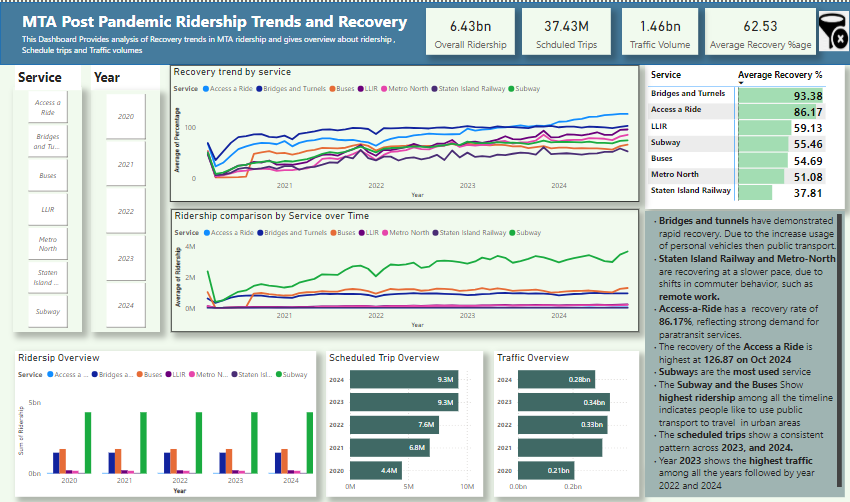

What the dashboard file says about the page in this screenshot:
{"tool":"powerbi","page":{"name":"Page 1","canvas":[1420,840],"ordinal":0},"visuals":[{"type":"slicer","fields":{"Values":["percentage.Date.Variation.Date Hierarchy.Year"]},"box":[1190,786.2,115,15],"z":0},{"type":"slicer","fields":{"Values":["MTA_Daily_Ridership.Date.Variation.Date Hierarchy.Year"]},"box":[1075,771.2,115,28.8],"z":1000},{"type":"shape","box":[0,0,1420,105],"z":2000},{"type":"pivotTable","fields":{"Values":["Avg(percentage.Value)"],"Rows":["percentage.Service"]},"box":[1075,105,333.3,240],"z":3000},{"type":"lineChart","title":"Ridership comparison by  Service over Time ","fields":{"Y":["Avg(Ridership.Ridership)"],"Series":["Ridership.Service"],"Category":["Ridership.Date.Variation.Date Hierarchy.Year","Ridership.Date.Variation.Date Hierarchy.Quarter","Ridership.Date.Variation.Date Hierarchy.Month"]},"box":[285,345,780,205],"z":4000},{"type":"slicer","fields":{"Values":["Ridership.Service"]},"box":[21.7,141.7,115,408.3],"z":5000},{"type":"lineChart","title":"Recovery trend by service","fields":{"Category":["percentage.Date.Variation.Date Hierarchy.Year","percentage.Date.Variation.Date Hierarchy.Quarter","percentage.Date.Variation.Date Hierarchy.Month"],"Y":["Avg(percentage.Percentage)"],"Series":["Ridership.Service"]},"box":[283.3,105,781.7,228.3],"z":6000},{"type":"textbox","box":[31.7,8.3,678.3,58.3],"z":7000},{"type":"barChart","title":"Scheduled Trip Overview","fields":{"Y":["Sum(MTA_Daily_Ridership.Access-A-Ride: Total Scheduled Trips)"],"Category":["MTA_Daily_Ridership.Date.Variation.Date Hierarchy.Year","MTA_Daily_Ridership.Date.Variation.Date Hierarchy.Quarter","MTA_Daily_Ridership.Date.Variation.Date Hierarchy.Month","MTA_Daily_Ridership.Date.Variation.Date Hierarchy.Day"]},"box":[543.3,581.7,261.7,243.3],"z":8000},{"type":"barChart","title":"Traffic Overview","fields":{"Y":["Sum(MTA_Daily_Ridership.Bridges and Tunnels: Total Traffic)"],"Category":["MTA_Daily_Ridership.Date.Variation.Date Hierarchy.Year","MTA_Daily_Ridership.Date.Variation.Date Hierarchy.Quarter","MTA_Daily_Ridership.Date.Variation.Date Hierarchy.Month","MTA_Daily_Ridership.Date.Variation.Date Hierarchy.Day"]},"box":[823.3,581.7,241.7,243.3],"z":9000},{"type":"lineClusteredColumnComboChart","title":"Ridersip  Overview","fields":{"Category":["percentage.Date.Variation.Date Hierarchy.Year"],"Series":["percentage.Service"],"Y":["Sum(Ridership.Ridership)"]},"box":[25,581.7,501.7,243.3],"z":10000},{"type":"card","fields":{"Values":["Avg(percentage.Percentage)"]},"box":[1175,10,185,78.3],"z":11000},{"type":"textbox","box":[1075,348.3,333.3,476.7],"z":12000},{"type":"image","box":[1360,10,60,76.7],"z":13000},{"type":"textbox","box":[25,105,110,41.7],"z":14000},{"type":"textbox","box":[151.7,105,115,41.7],"z":15000},{"type":"card","fields":{"Values":["MTA_Daily_Ridership.Overall Ridership"]},"box":[710,10,148.3,78.3],"z":16000},{"type":"card","fields":{"Values":["MTA_Daily_Ridership.Schduled Trips"]},"box":[870,10,148.3,78.3],"z":17000},{"type":"card","fields":{"Values":["MTA_Daily_Ridership.Traffic Volume"]},"box":[1036.7,10,126.7,78.3],"z":18000},{"type":"textbox","box":[32.2,48.9,643.3,47.8],"z":19000},{"type":"slicer","fields":{"Values":["Ridership.Date.Variation.Date Hierarchy.Year"]},"box":[151.7,146.7,115,403.3],"z":20000}]}

Visuals, with their boxes in screenshot pixels (x1, y1, x2, y2), scaled from the page's 1420x840 canvas onto the 850x502 screenshot:
slicer - percentage.Date.Variation.Date Hierarchy.Year: <bbox>712, 470, 781, 479</bbox>
slicer - MTA_Daily_Ridership.Date.Variation.Date Hierarchy.Year: <bbox>643, 461, 712, 478</bbox>
shape: <bbox>0, 0, 849, 63</bbox>
pivotTable - Avg(percentage.Value) x percentage.Service: <bbox>643, 63, 843, 206</bbox>
"Ridership comparison by  Service over Time " lineChart: <bbox>171, 206, 638, 329</bbox>
slicer - Ridership.Service: <bbox>13, 85, 82, 329</bbox>
"Recovery trend by service" lineChart: <bbox>170, 63, 638, 199</bbox>
textbox: <bbox>19, 5, 425, 40</bbox>
"Scheduled Trip Overview" barChart: <bbox>325, 348, 482, 493</bbox>
"Traffic Overview" barChart: <bbox>493, 348, 638, 493</bbox>
"Ridersip  Overview" lineClusteredColumnComboChart: <bbox>15, 348, 315, 493</bbox>
card - Avg(percentage.Percentage): <bbox>703, 6, 814, 53</bbox>
textbox: <bbox>643, 208, 843, 493</bbox>
image: <bbox>814, 6, 849, 52</bbox>
textbox: <bbox>15, 63, 81, 88</bbox>
textbox: <bbox>91, 63, 160, 88</bbox>
card - MTA_Daily_Ridership.Overall Ridership: <bbox>425, 6, 514, 53</bbox>
card - MTA_Daily_Ridership.Schduled Trips: <bbox>521, 6, 610, 53</bbox>
card - MTA_Daily_Ridership.Traffic Volume: <bbox>621, 6, 696, 53</bbox>
textbox: <bbox>19, 29, 404, 58</bbox>
slicer - Ridership.Date.Variation.Date Hierarchy.Year: <bbox>91, 88, 160, 329</bbox>
